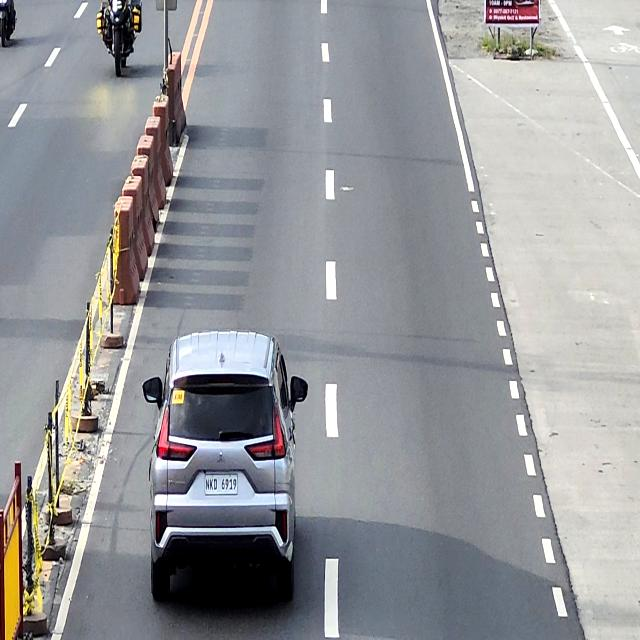Car: (142, 329, 308, 602)
License-Plate: (203, 471, 239, 496)
Motorcycle: (96, 0, 142, 77)
